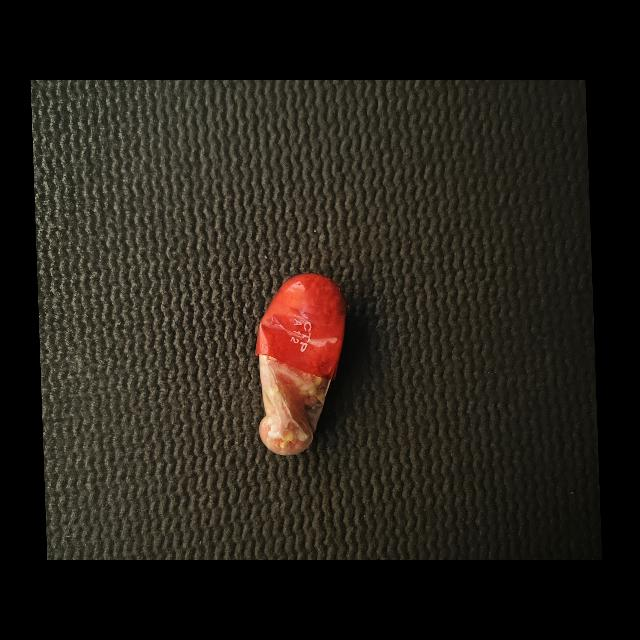Defective Capsule: (255, 274, 346, 455)
